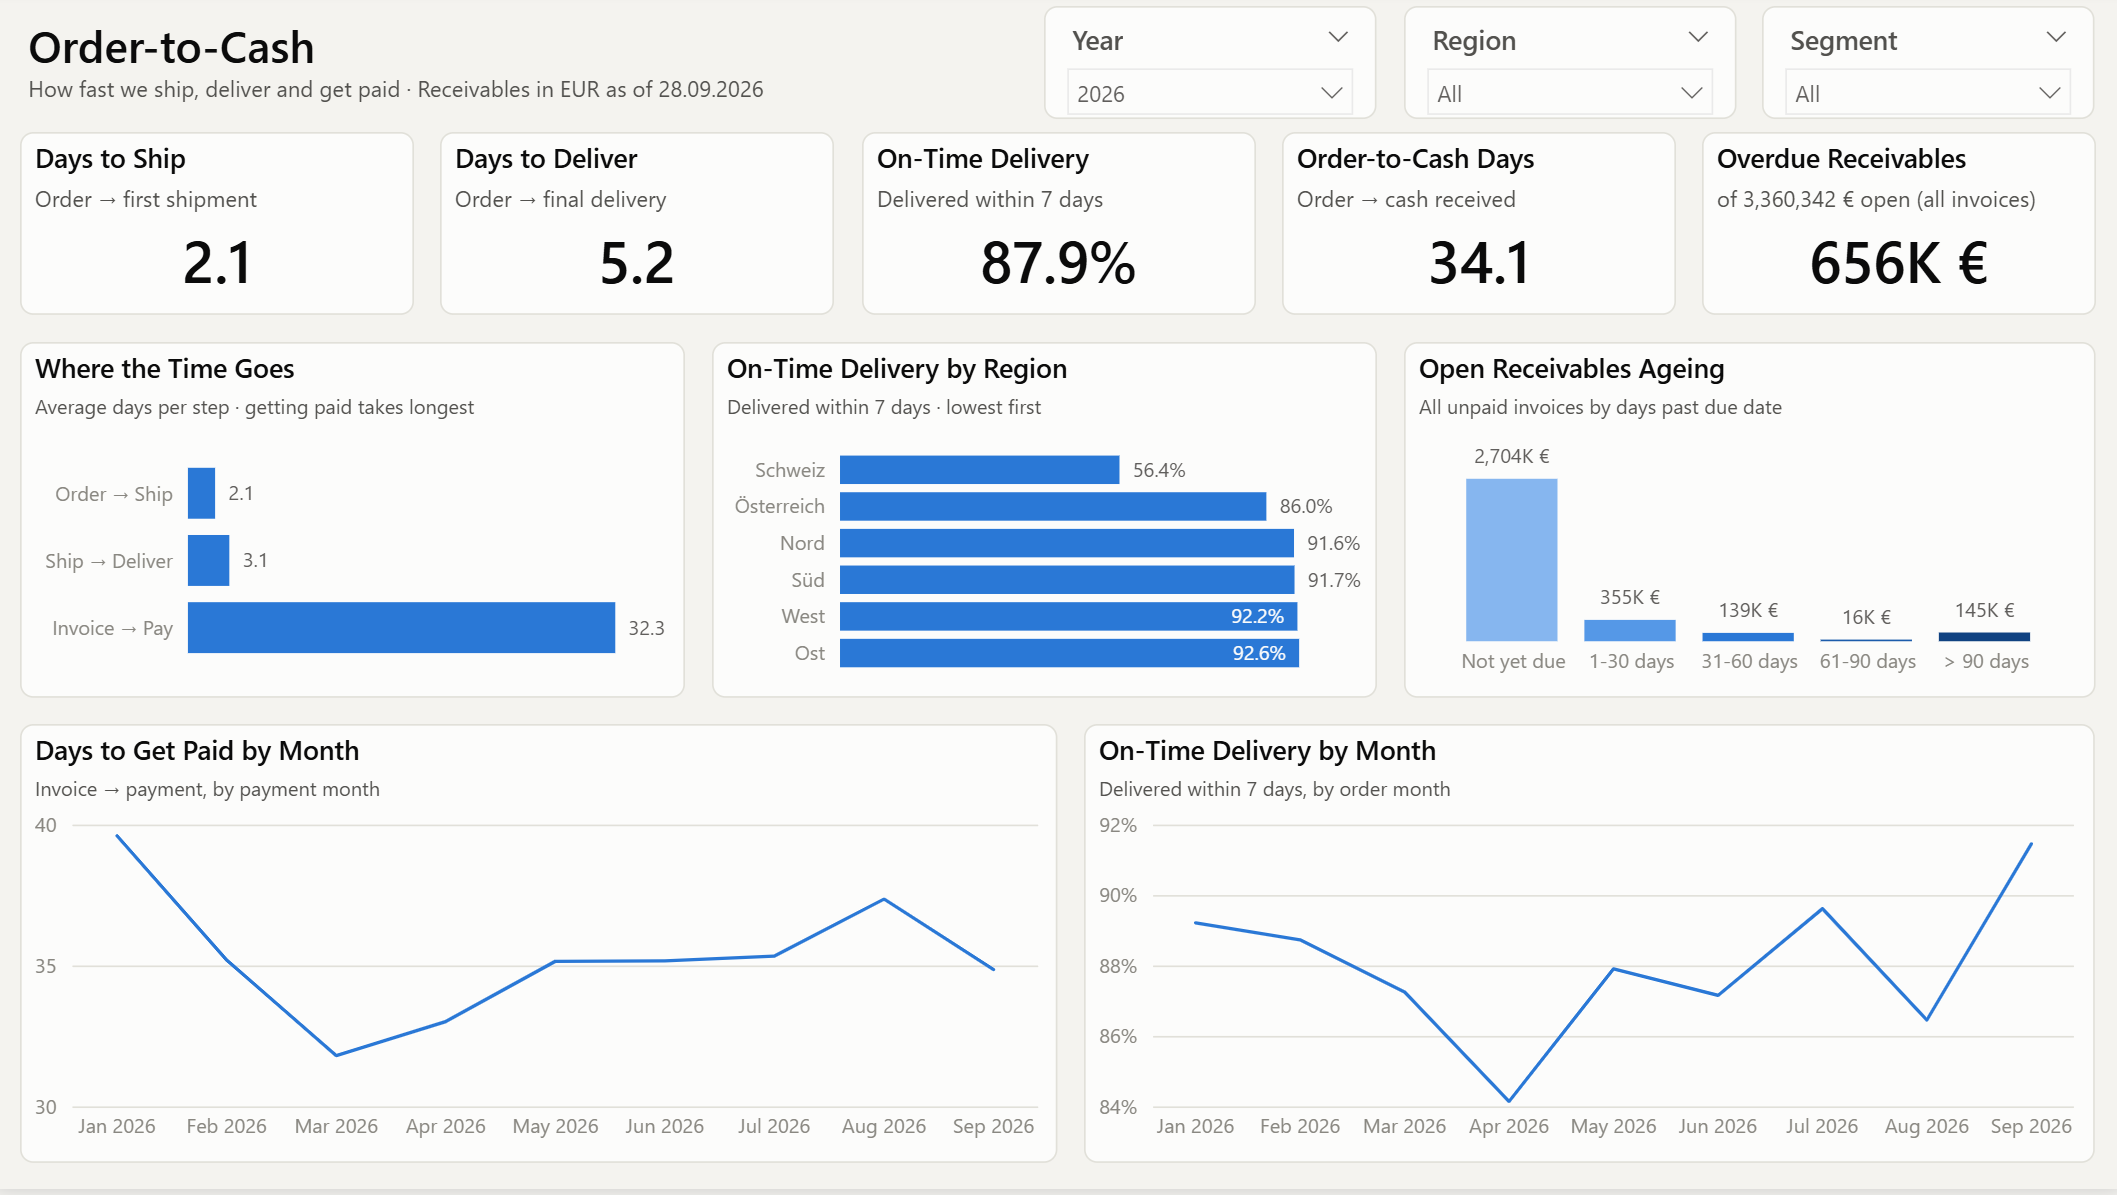

What the dashboard file says about the page in this screenshot:
{"tool":"powerbi","page":{"name":"Order-to-Cash","canvas":[1280,720],"ordinal":3},"visuals":[{"type":"textbox","box":[16,8,600,70],"z":0},{"type":"slicer","fields":{"Values":["dim_date.year"]},"box":[632,8,200,68],"z":1000},{"type":"slicer","fields":{"Values":["dim_customer.region"]},"box":[848,8,200,68],"z":2000},{"type":"slicer","fields":{"Values":["dim_customer.segment"]},"box":[1064,8,200,68],"z":3000},{"type":"card","title":"Days to Ship","fields":{"Values":["_measures.Avg Days to Ship"]},"box":[16,84,236.8,110],"z":4000},{"type":"card","title":"Days to Deliver","fields":{"Values":["_measures.Avg Days to Deliver"]},"box":[268.8,84,236.8,110],"z":5000},{"type":"card","title":"On-Time Delivery","fields":{"Values":["_measures.On-Time Delivery %"]},"box":[521.6,84,236.8,110],"z":6000},{"type":"card","title":"Order-to-Cash Days","fields":{"Values":["_measures.Avg Days Order to Cash"]},"box":[774.4,84,236.8,110],"z":7000},{"type":"card","title":"Overdue Receivables","fields":{"Values":["_measures.Overdue Receivables As Of"]},"box":[1027.2,84,236.8,110],"z":8000},{"type":"clusteredBarChart","title":"Where the Time Goes","fields":{"Category":["process_step.Step"],"Y":["_measures.Avg Days in Step"]},"box":[16,210,400,214],"z":9000},{"type":"clusteredBarChart","title":"On-Time Delivery by Region","fields":{"Category":["dim_customer.region"],"Y":["_measures.On-Time Delivery %"]},"box":[432,210,400,214],"z":10000},{"type":"clusteredColumnChart","title":"Open Receivables Ageing","fields":{"Category":["receivable_ageing.Bucket"],"Y":["_measures.Receivables by Ageing"]},"box":[848,210,416,214],"z":11000},{"type":"lineChart","title":"Days to Get Paid by Month","fields":{"Category":["dim_date.Month Year"],"Y":["_measures.Avg Days to Pay by Payment Date"]},"box":[16,440,624,264],"z":12000},{"type":"lineChart","title":"On-Time Delivery by Month","fields":{"Category":["dim_date.Month Year"],"Y":["_measures.On-Time Delivery %"]},"box":[656,440,608,264],"z":13000}]}

Visuals, with their boxes in screenshot pixels (x1, y1, x2, y2), scaled from the page's 1280x720 canvas onto the 2117x1195 screenshot:
textbox: {"x1": 26, "y1": 13, "x2": 1019, "y2": 129}
slicer - dim_date.year: {"x1": 1045, "y1": 13, "x2": 1376, "y2": 126}
slicer - dim_customer.region: {"x1": 1403, "y1": 13, "x2": 1733, "y2": 126}
slicer - dim_customer.segment: {"x1": 1760, "y1": 13, "x2": 2091, "y2": 126}
"Days to Ship" card: {"x1": 26, "y1": 139, "x2": 418, "y2": 322}
"Days to Deliver" card: {"x1": 445, "y1": 139, "x2": 836, "y2": 322}
"On-Time Delivery" card: {"x1": 863, "y1": 139, "x2": 1254, "y2": 322}
"Order-to-Cash Days" card: {"x1": 1281, "y1": 139, "x2": 1672, "y2": 322}
"Overdue Receivables" card: {"x1": 1699, "y1": 139, "x2": 2091, "y2": 322}
"Where the Time Goes" clusteredBarChart: {"x1": 26, "y1": 349, "x2": 688, "y2": 704}
"On-Time Delivery by Region" clusteredBarChart: {"x1": 714, "y1": 349, "x2": 1376, "y2": 704}
"Open Receivables Ageing" clusteredColumnChart: {"x1": 1403, "y1": 349, "x2": 2091, "y2": 704}
"Days to Get Paid by Month" lineChart: {"x1": 26, "y1": 730, "x2": 1058, "y2": 1168}
"On-Time Delivery by Month" lineChart: {"x1": 1085, "y1": 730, "x2": 2091, "y2": 1168}
